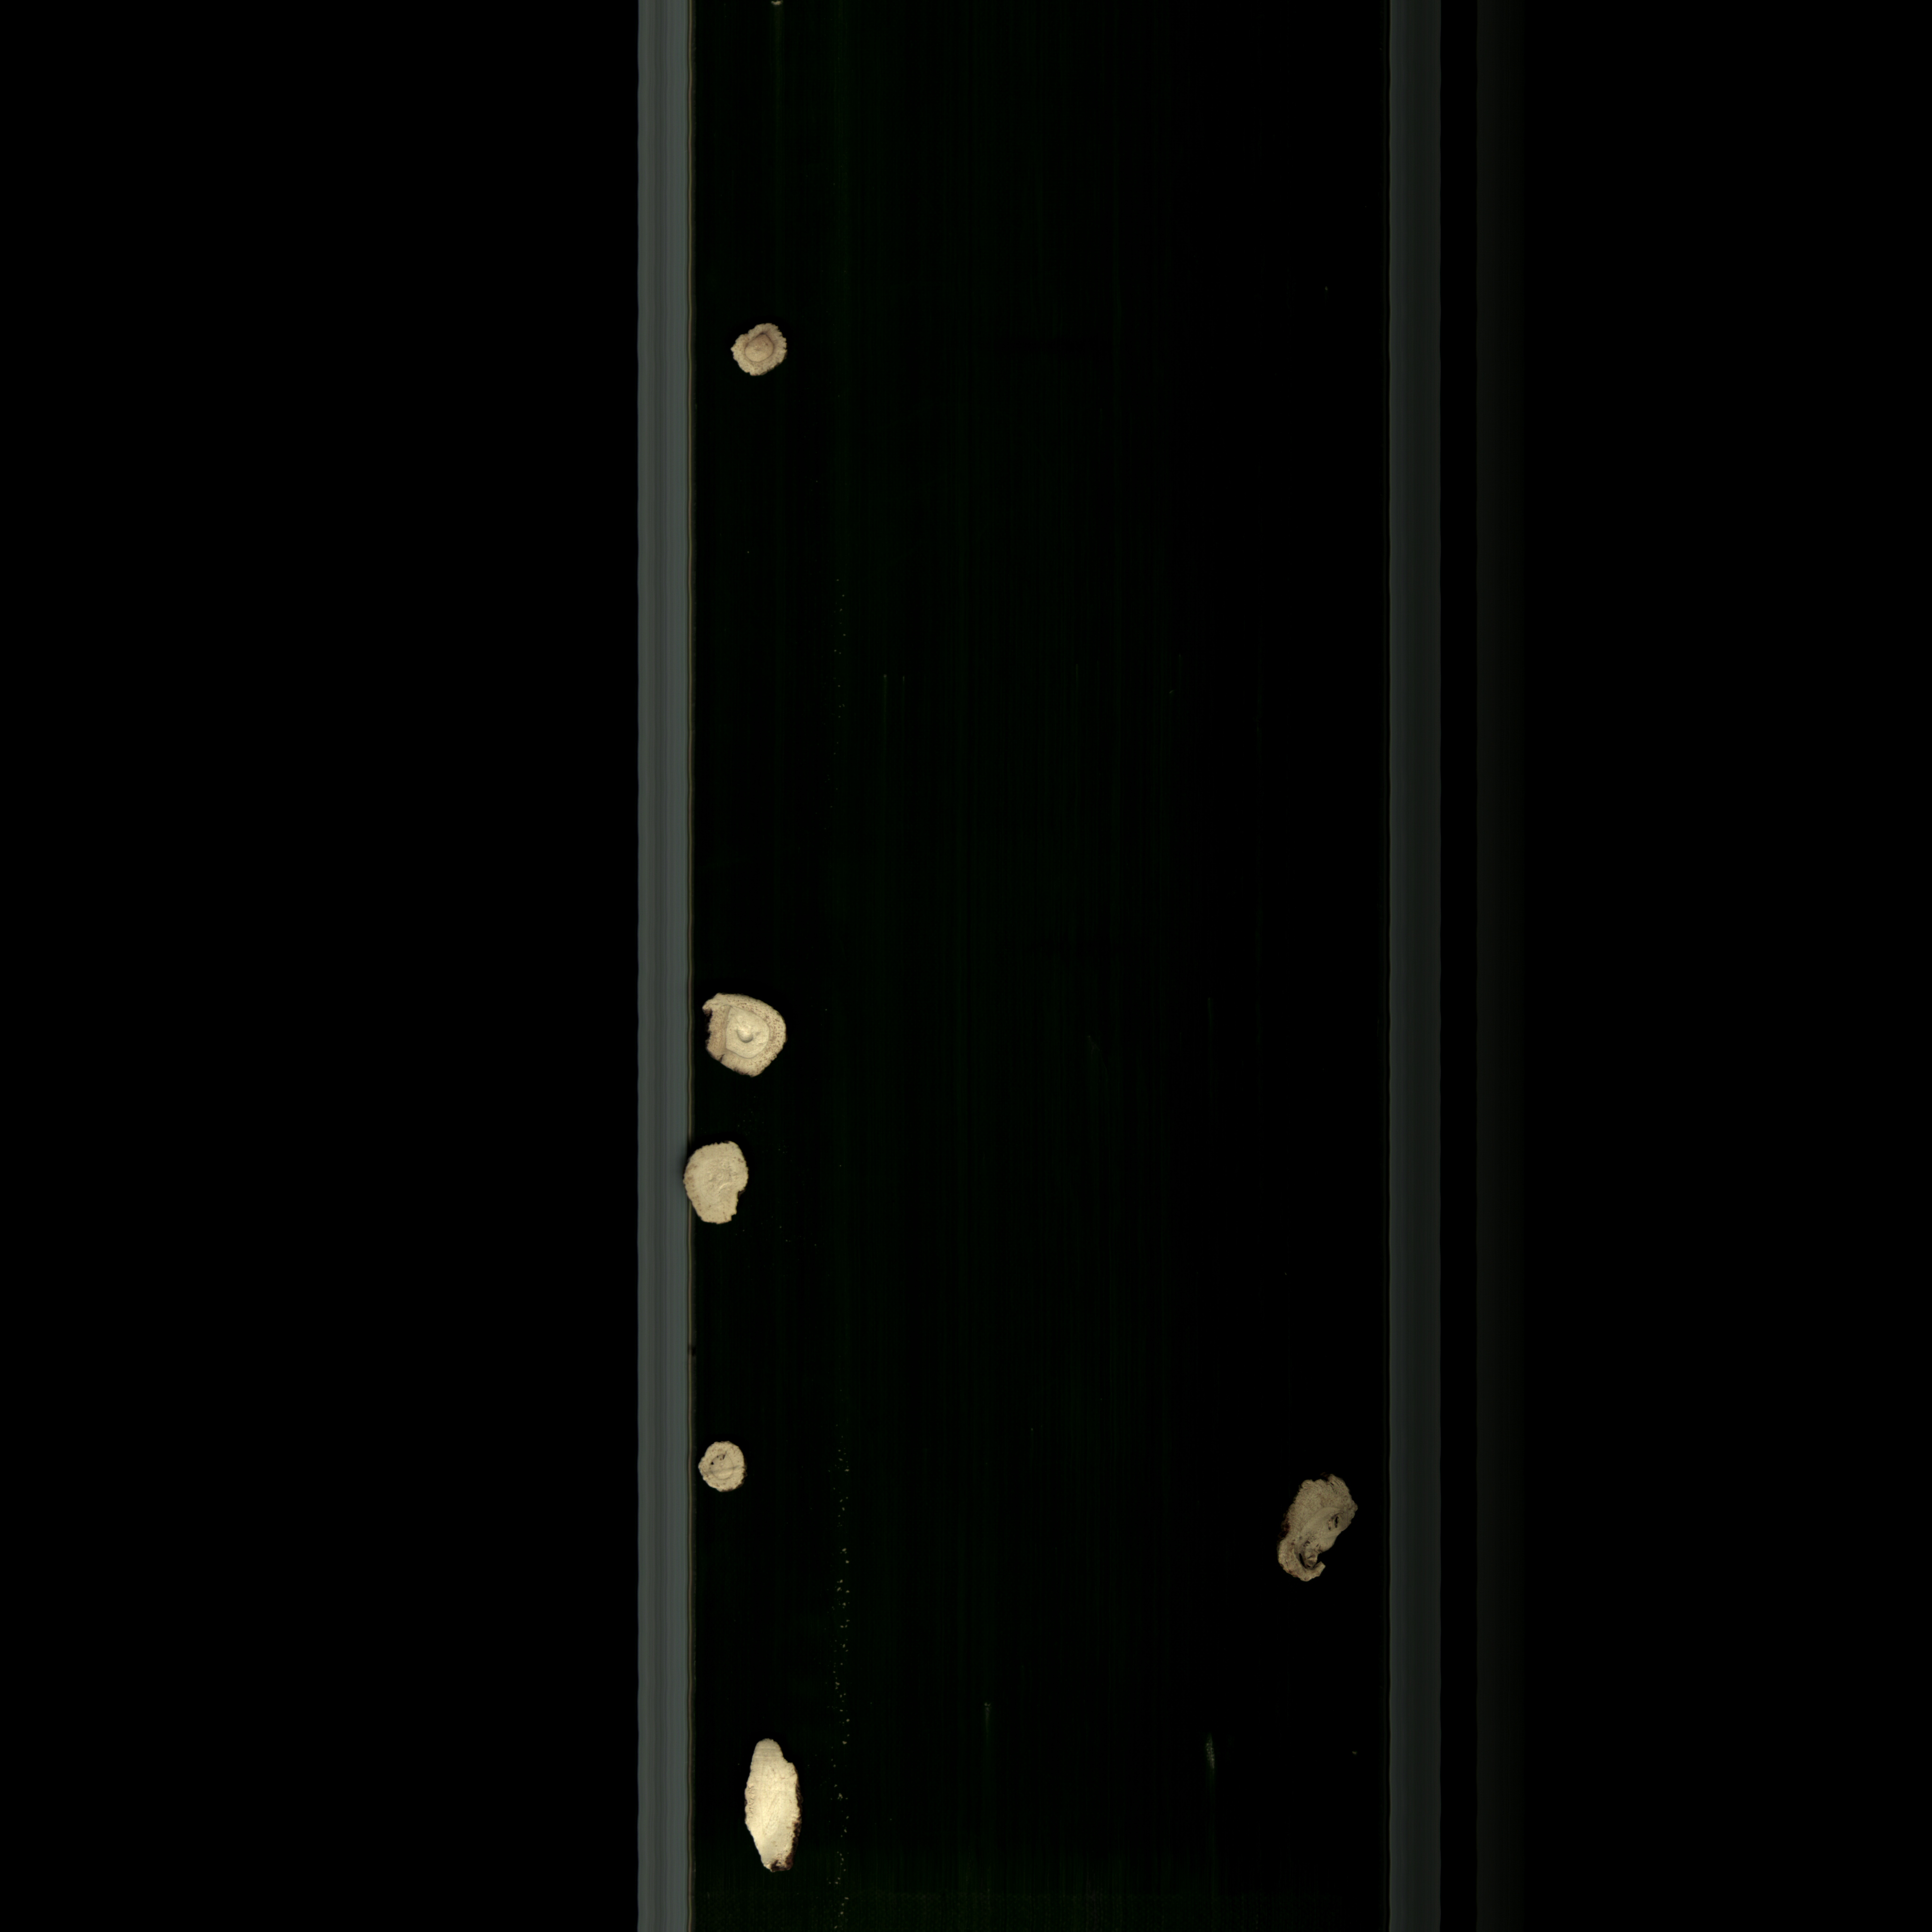distortion: (725, 1727, 814, 1882), (701, 982, 807, 1079), (679, 1134, 754, 1231)
hole: (697, 1437, 761, 1504)
moldy: (1260, 1447, 1369, 1601), (729, 308, 798, 395)
